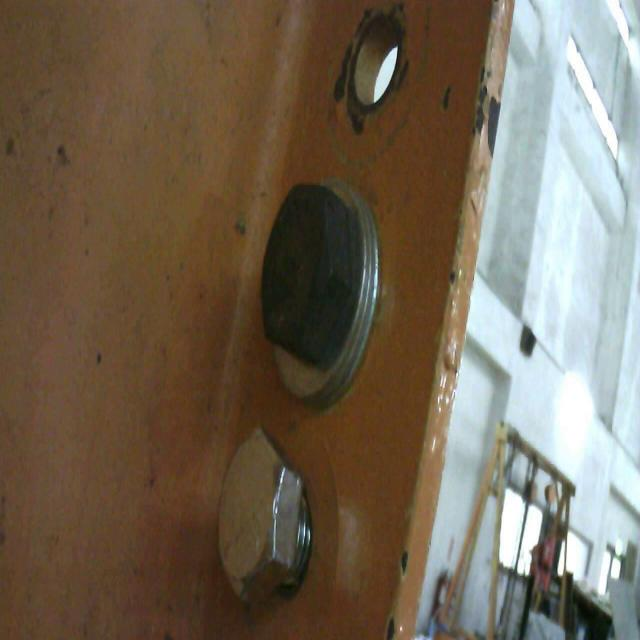Loose bolt: (220, 430, 316, 615), (316, 391, 325, 397)
Missing bolt: (352, 11, 403, 109)
Regular bolt: (201, 414, 323, 636)
Rusty bolt: (258, 177, 381, 398)
